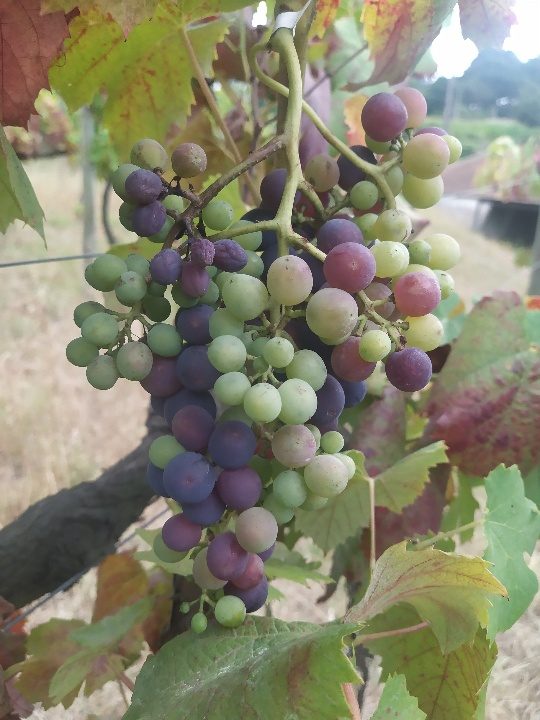grape: (63, 83, 464, 636)
